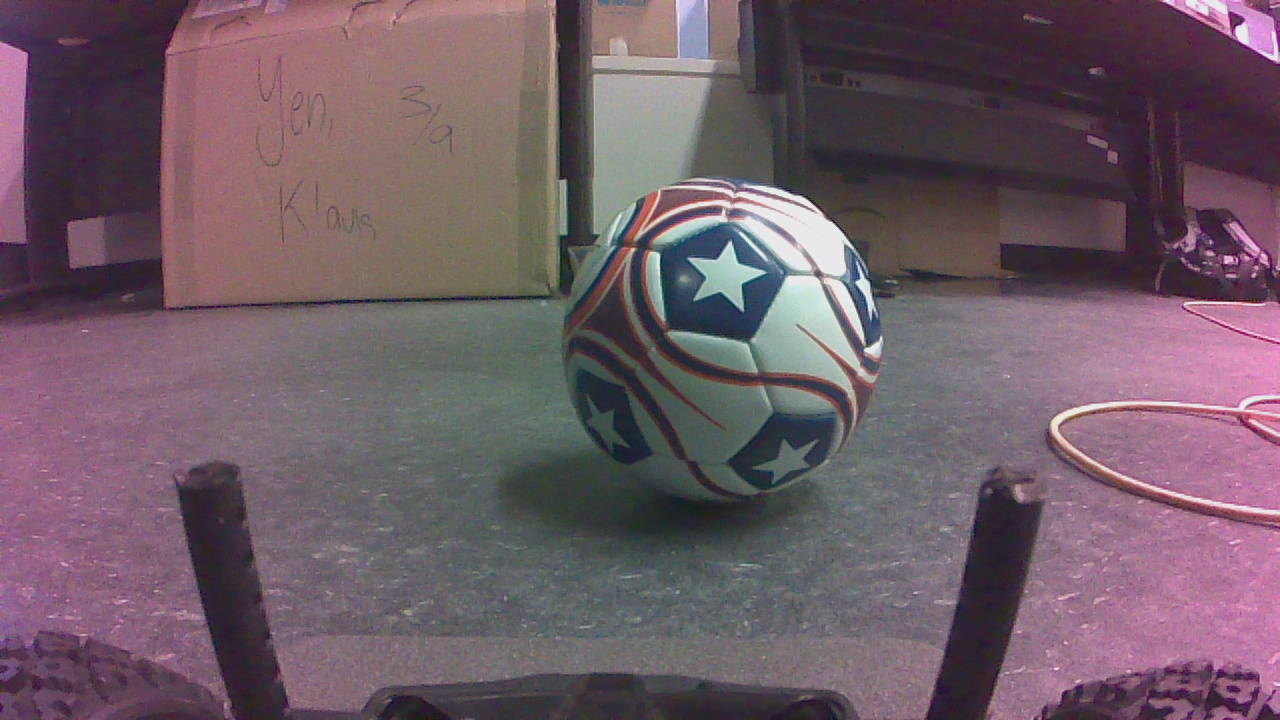ball: (547, 182, 904, 517)
